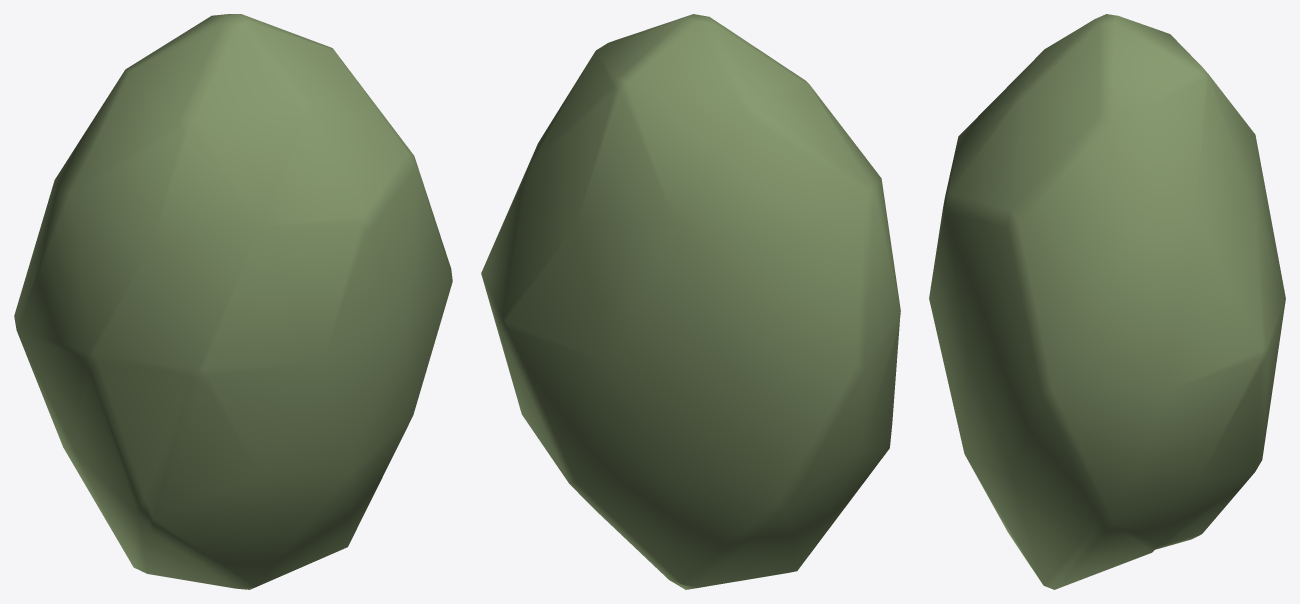
File: LL_Rock_02.fbx
3 renders of one model, left to right at view 1: azimuth 30°, elevation 25°; view 2: azimuth 150°, elevation 25°; view 3: azimuth 270°, elevation 25°, orthographic.
Visible parts, largest first — view 1: LL_Rock_02; view 2: LL_Rock_02; view 3: LL_Rock_02.
Part boxes in pixels (<box>): LL_Rock_02: <box>14,14,452,589</box>; LL_Rock_02: <box>481,14,900,589</box>; LL_Rock_02: <box>929,14,1285,589</box>.
Bounding box in the file's own units: 2.02 × 2.7 × 1.63.
